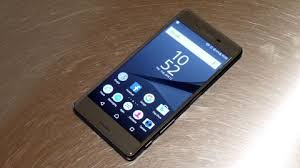sony: (72, 8, 248, 164)
